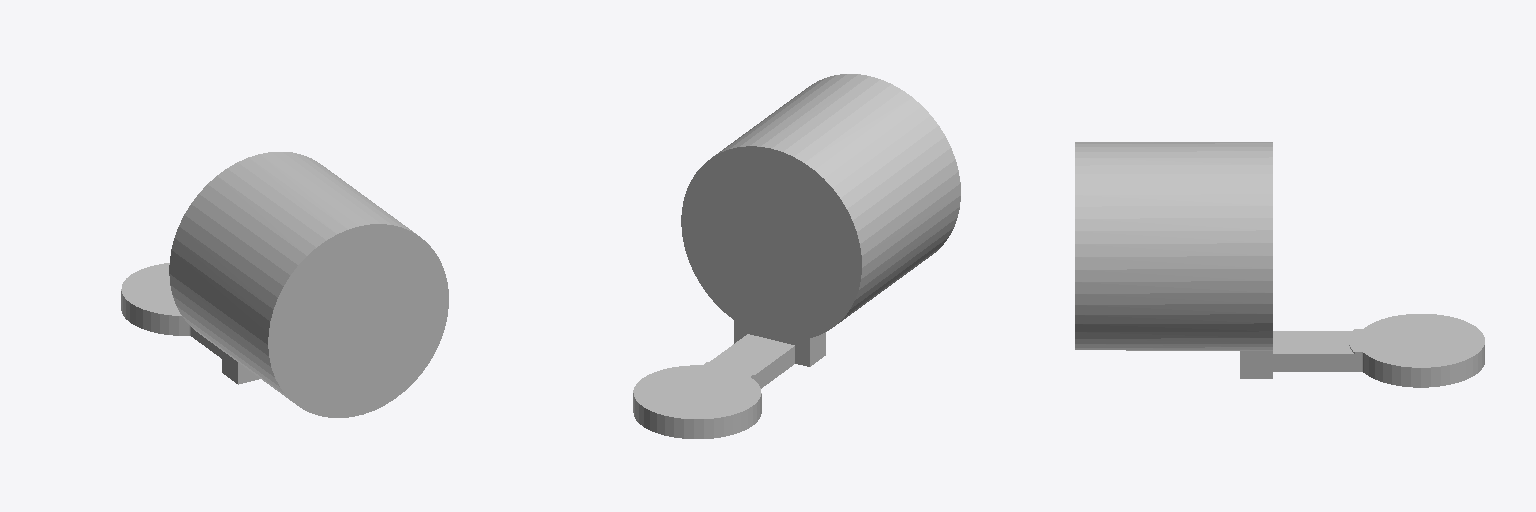
Rendered from openarm_left_link7_collision_mesh.obj.
3 views of the same model, side by side, from view 1: azimuth 30°, elevation 25°; view 2: azimuth 150°, elevation 25°; view 3: azimuth 270°, elevation 25° (orthographic).
Bounding box in the file's own units: 0.057 × 0.063 × 0.112.